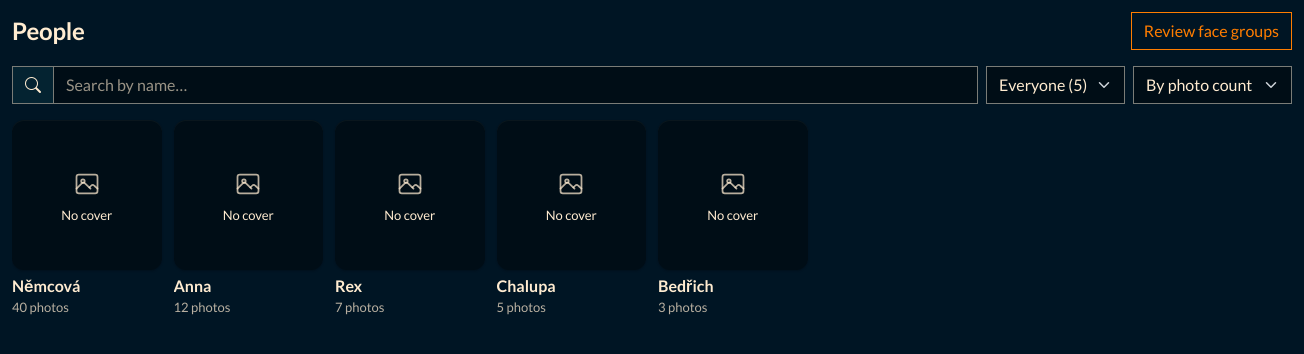
Test: PeoplePage › finds a person by the nickname and says on the tile why they are there
This screenshot has width=1304, height=354.
Expected: the link "No cover Anna 12 photos" is shown, [174, 120, 323, 316]
Type "bedik" into the search field named "Search people" at [516, 85], box [53, 66, 978, 104]
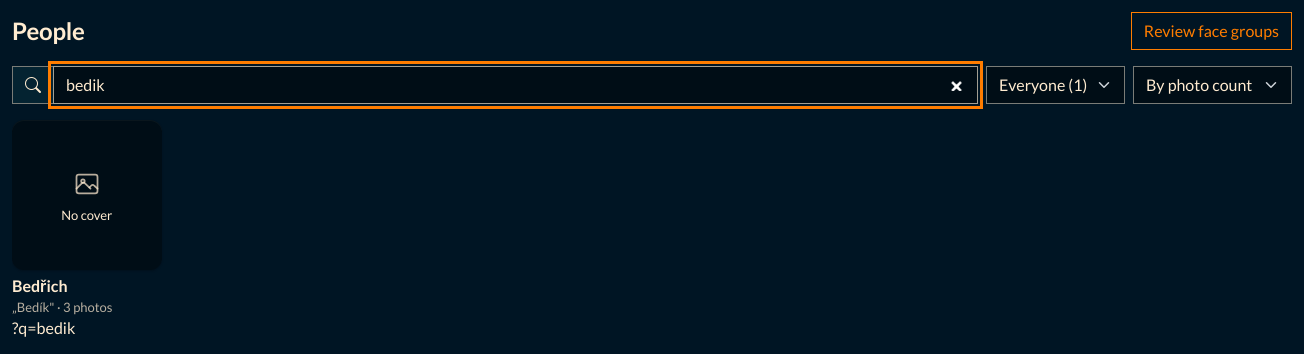
Now the text "„Bedík\" · 3 photos" is shown, box [12, 298, 112, 314]
